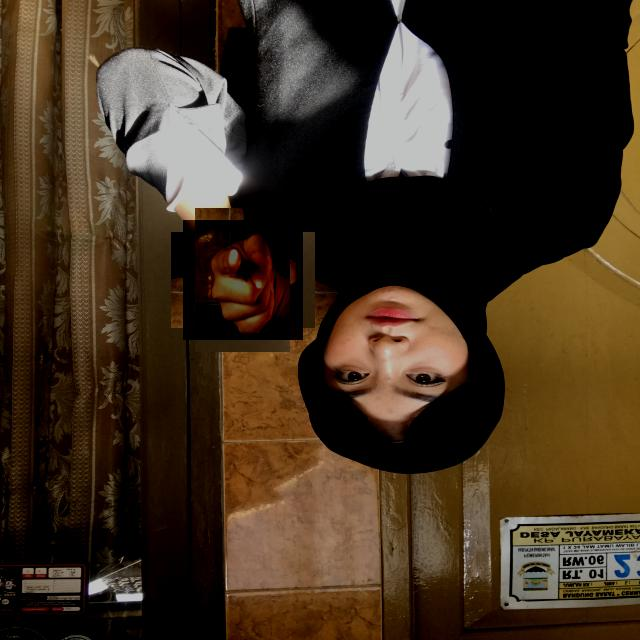kamu: (183, 220, 303, 340)
